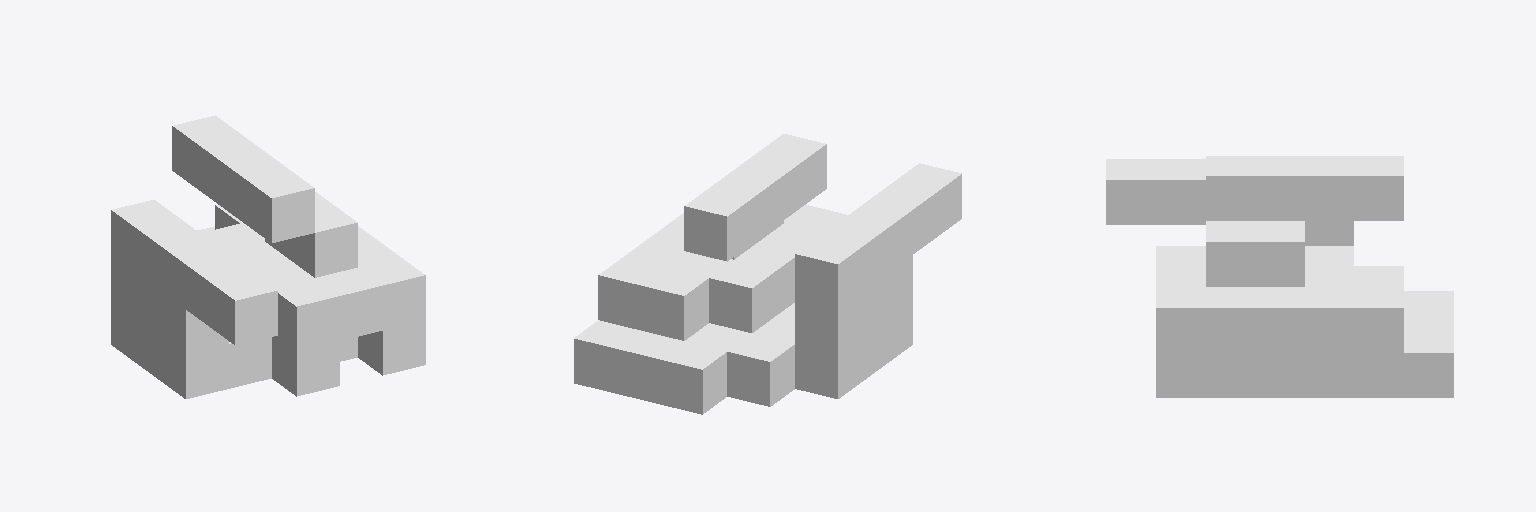
The model's file is SpaceInvader5.2.obj.
The picture shows the model from 3 angles: view 1: azimuth 30°, elevation 25°; view 2: azimuth 150°, elevation 25°; view 3: azimuth 270°, elevation 25°; orthographic projection.
Visible parts, largest first — view 1: object 1; view 2: object 1; view 3: object 1.
Part boxes in pixels (x1,y1,x2,y2): object 1: (111, 115, 425, 398); object 1: (574, 134, 961, 414); object 1: (1106, 156, 1453, 397).
Size of the model in its own units: 0.5 by 0.4 by 0.7.